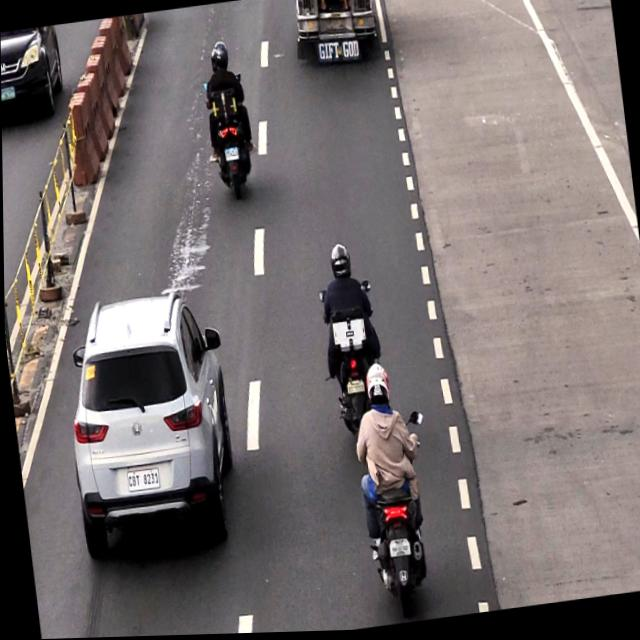Car: (53, 282, 241, 549)
Jeep: (287, 0, 379, 69)
License-Plate: (122, 468, 162, 496), (385, 537, 411, 565), (343, 378, 366, 398), (221, 146, 239, 164)
Motorcycle: (337, 363, 430, 604), (312, 242, 383, 424), (197, 40, 256, 203)
